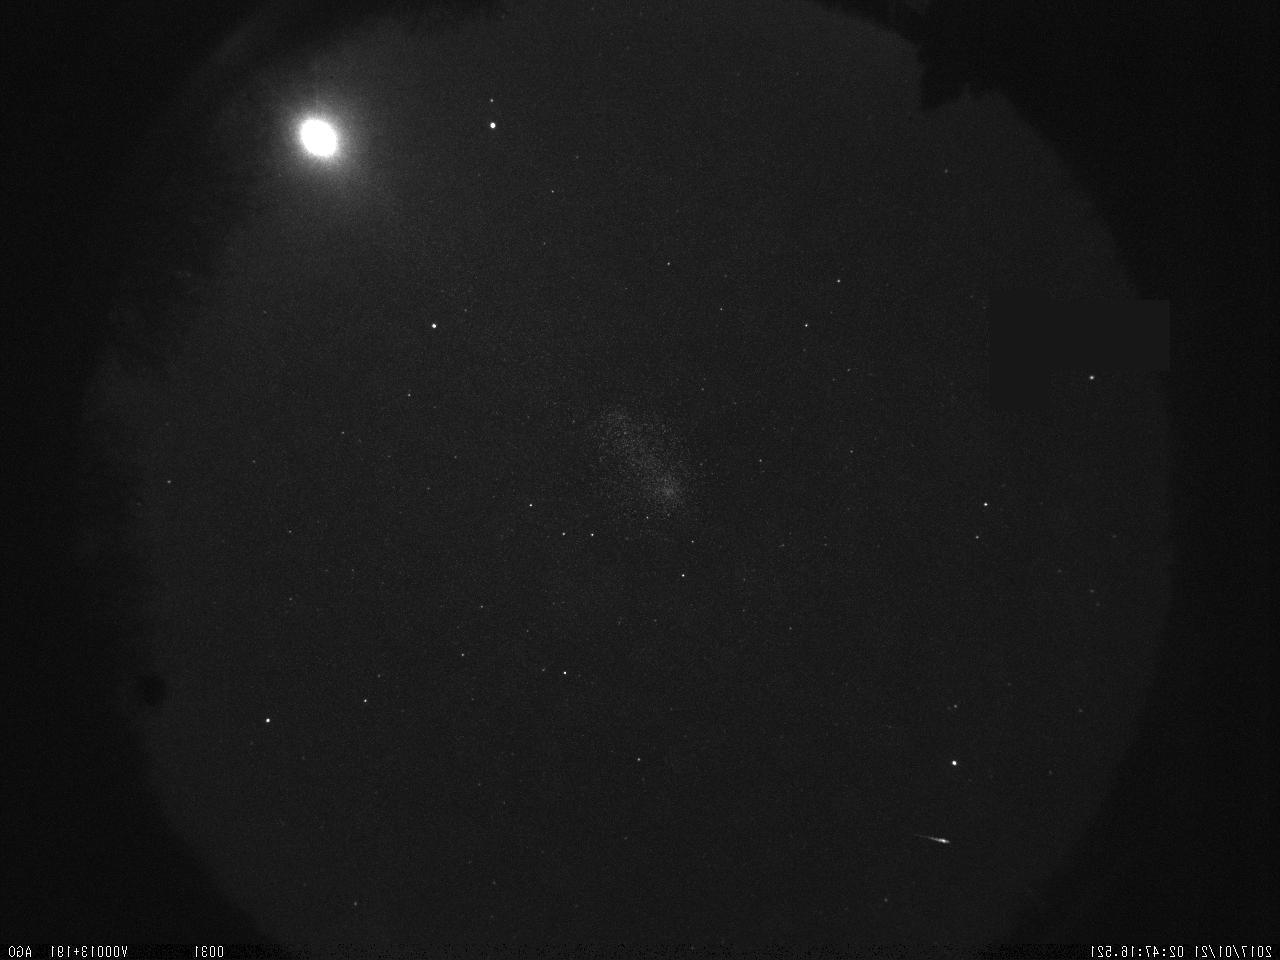meteor: (874, 821, 973, 866)
